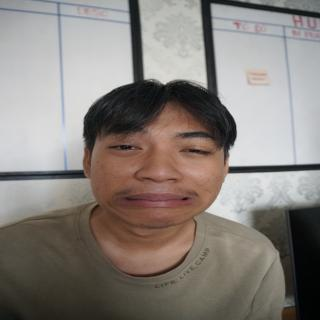Sedih: (80, 92, 242, 231)
